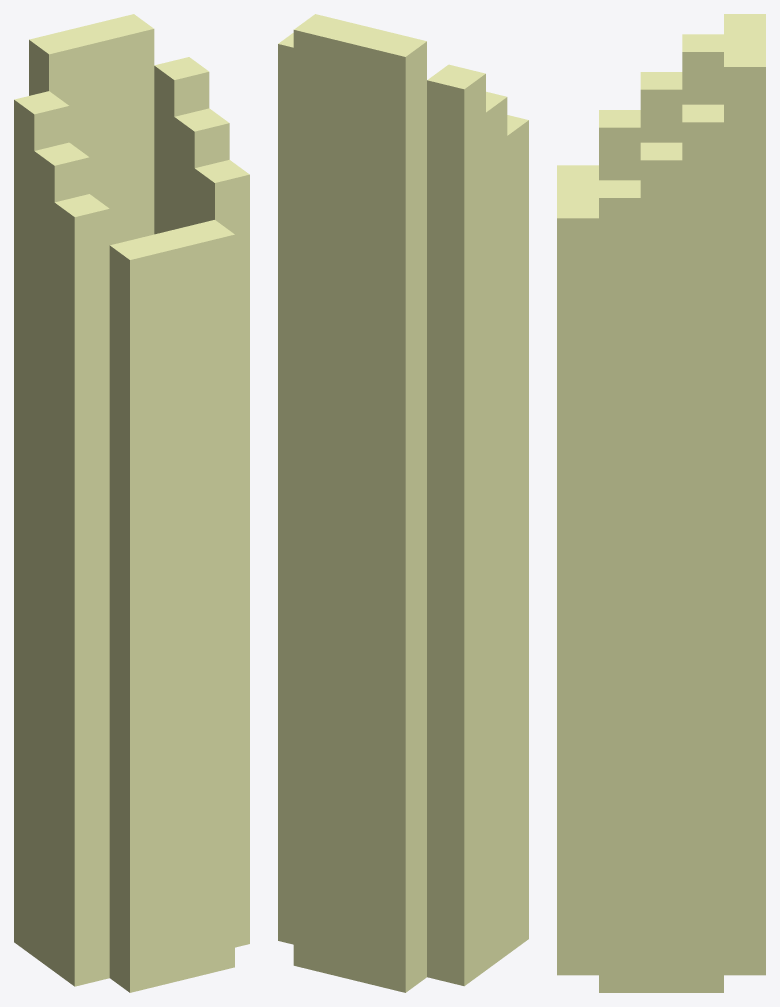
Rendered from kiritan_KiritanpoR.obj.
3 renders of one model, left to right at view 1: azimuth 30°, elevation 25°; view 2: azimuth 150°, elevation 25°; view 3: azimuth 270°, elevation 25°, orthographic. The views are drawn at different scales.
Visible parts, largest first — view 1: kiritan_KiritanpoR; view 2: kiritan_KiritanpoR; view 3: kiritan_KiritanpoR.
Boxes of the visible parts, <box> form: kiritan_KiritanpoR: <box>14,14,249,992</box>; kiritan_KiritanpoR: <box>278,14,528,992</box>; kiritan_KiritanpoR: <box>557,14,765,992</box>.
Size of the model in its own units: 5 by 24 by 5.
Materials: 1 (1 with a texture image).
